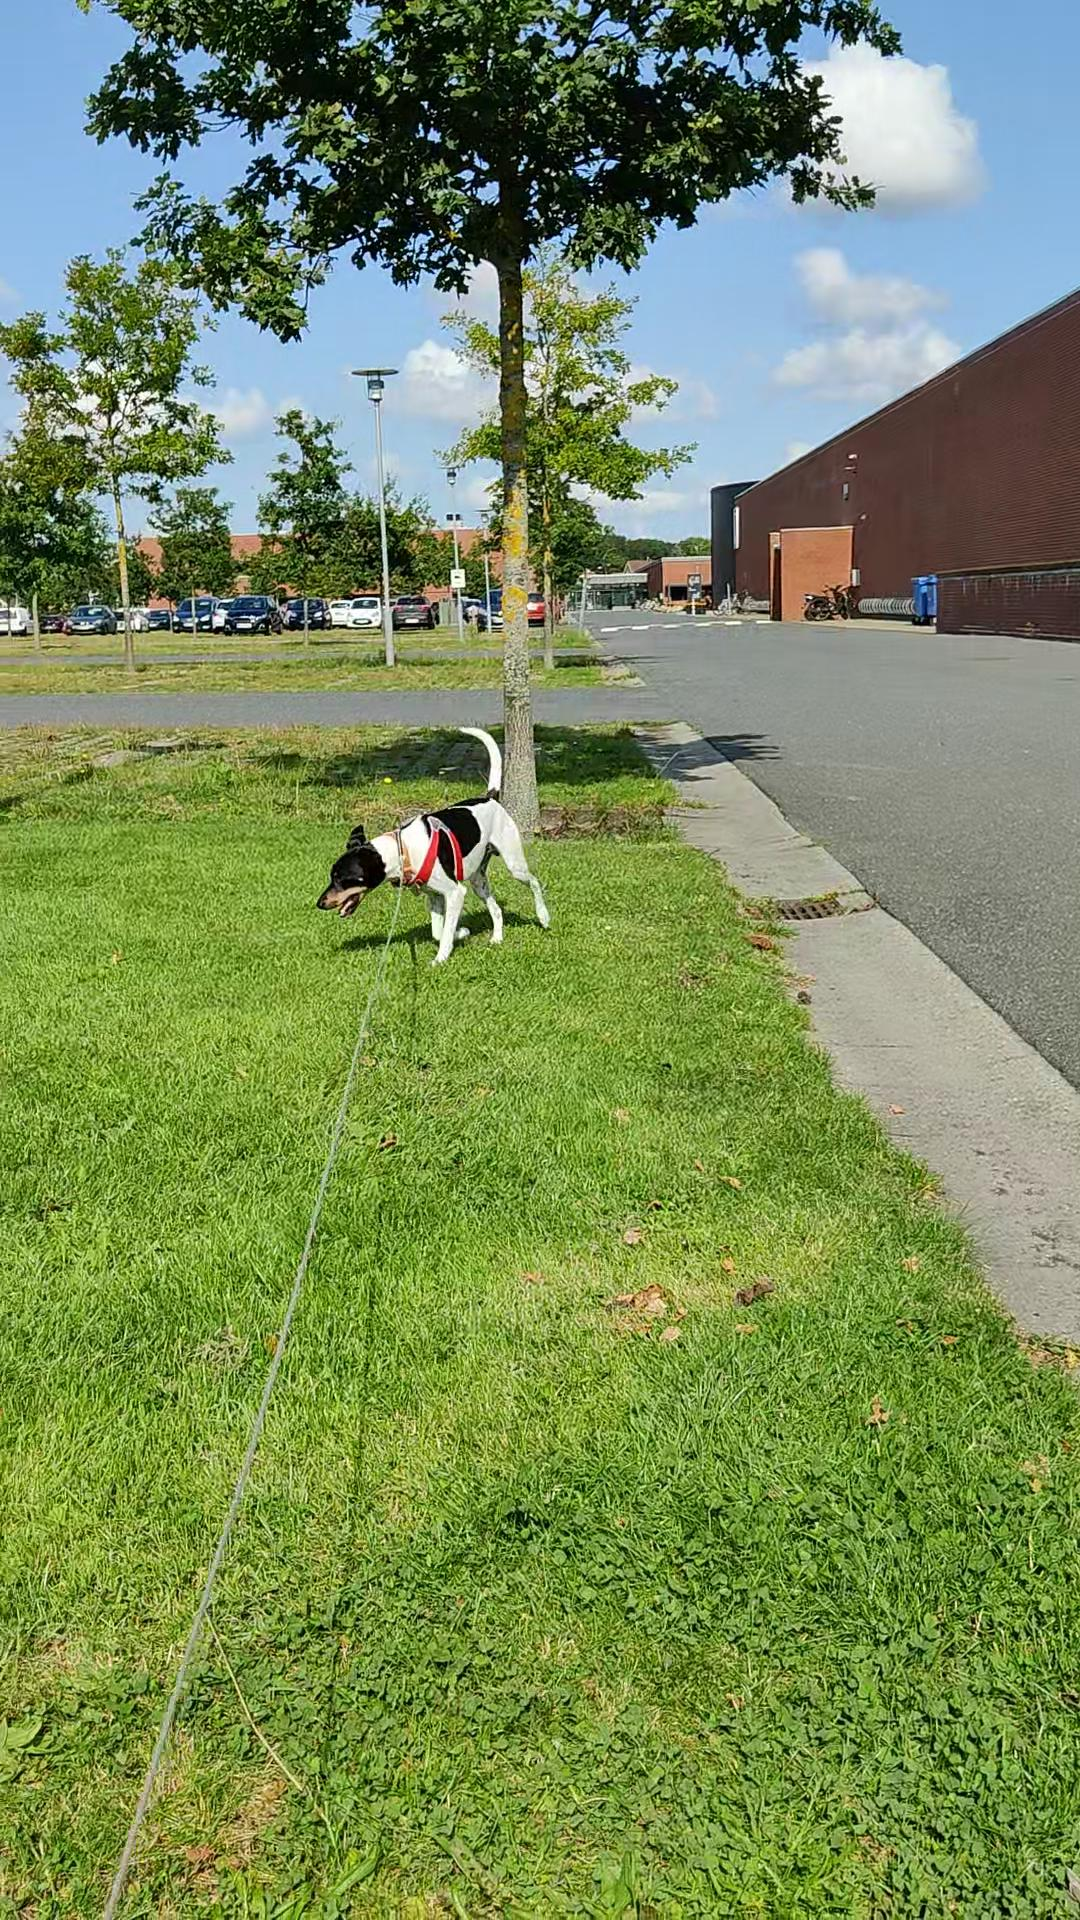Dog: (310, 723, 560, 968)
